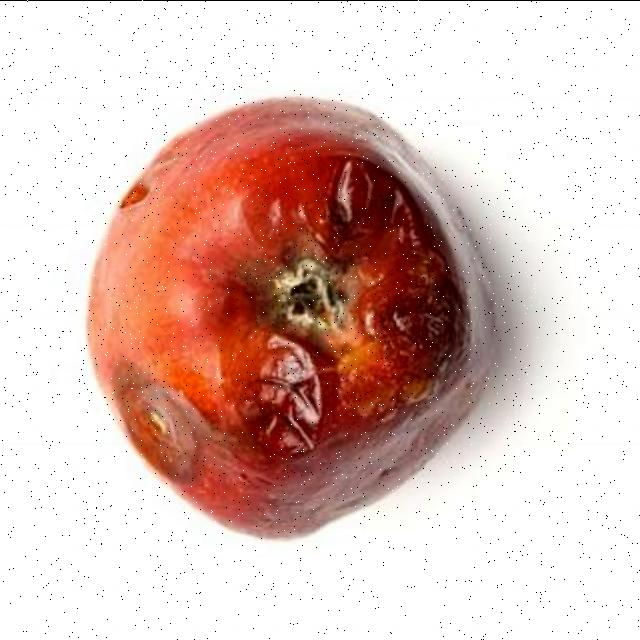ROT: (63, 83, 504, 530)
